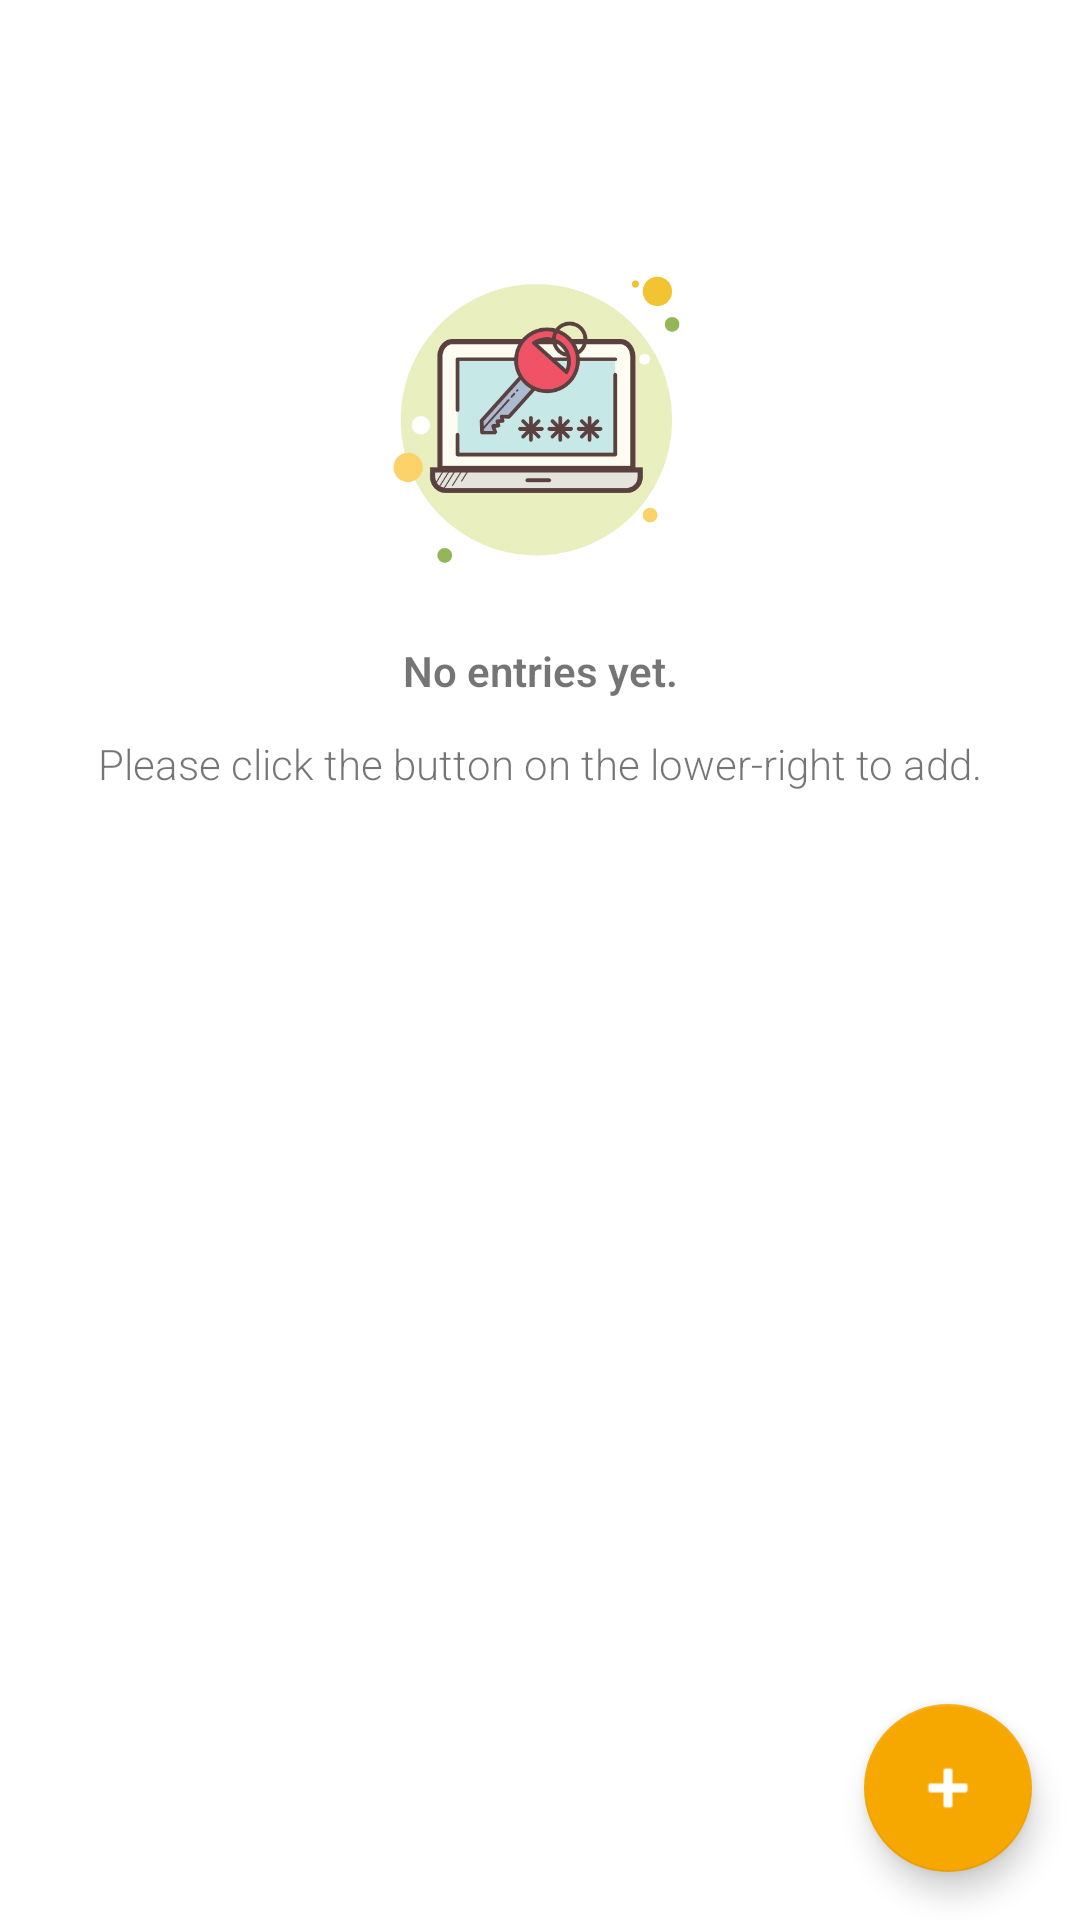

Screen size 1080 x 1920. Icon name, then its box in pixels as (x1, y1, x2, y2):
add: (864, 1704, 1032, 1872)
graphic laptop: (393, 276, 680, 563)
